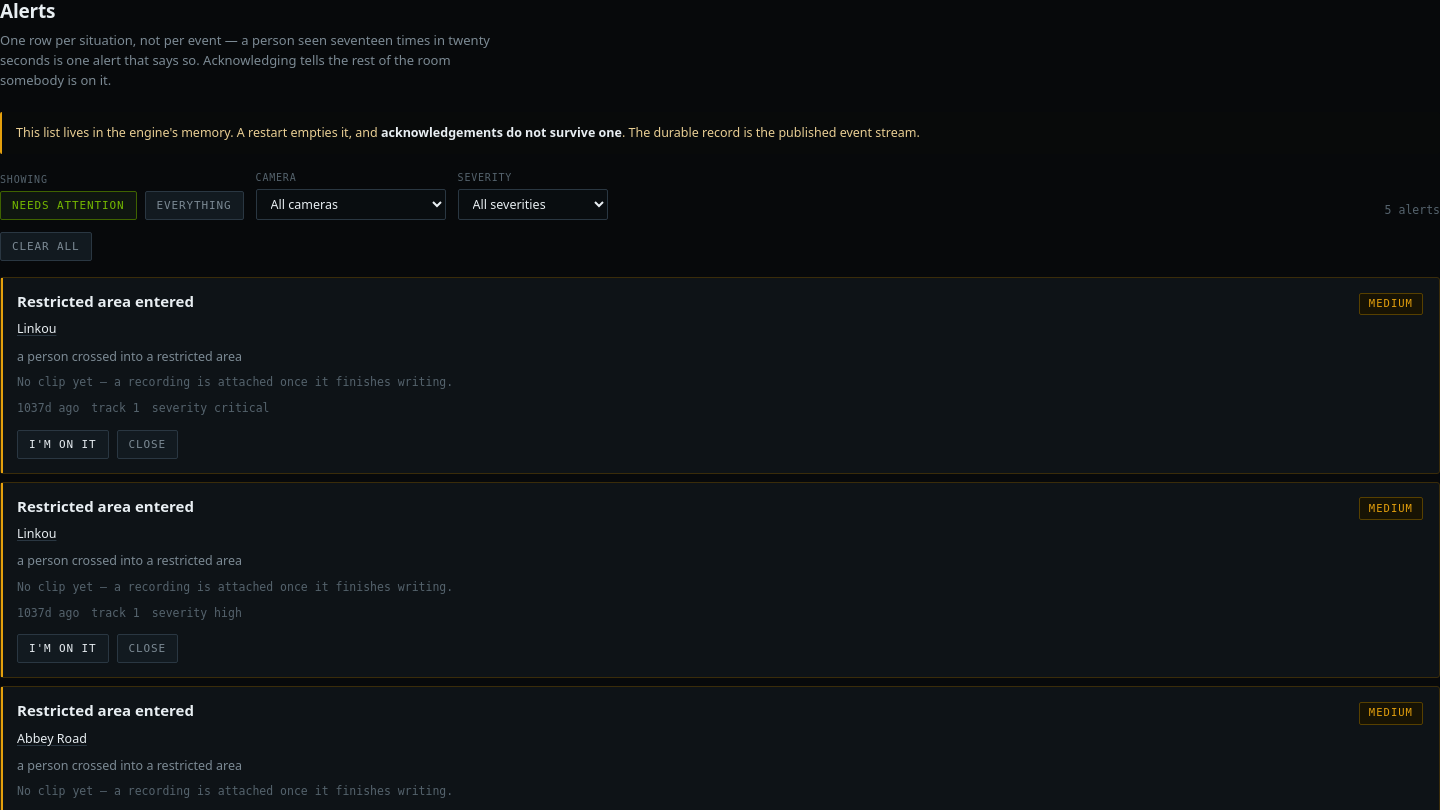
Scenario: AlertsPage filters, what an empty list is allowed to claim › does not say nothing is waiting when the filters are what emptied it
Select "Bourbon Street — 1" in the dropdown labelled "Camera" at (351, 204), box left=256, top=189, right=446, bottom=220
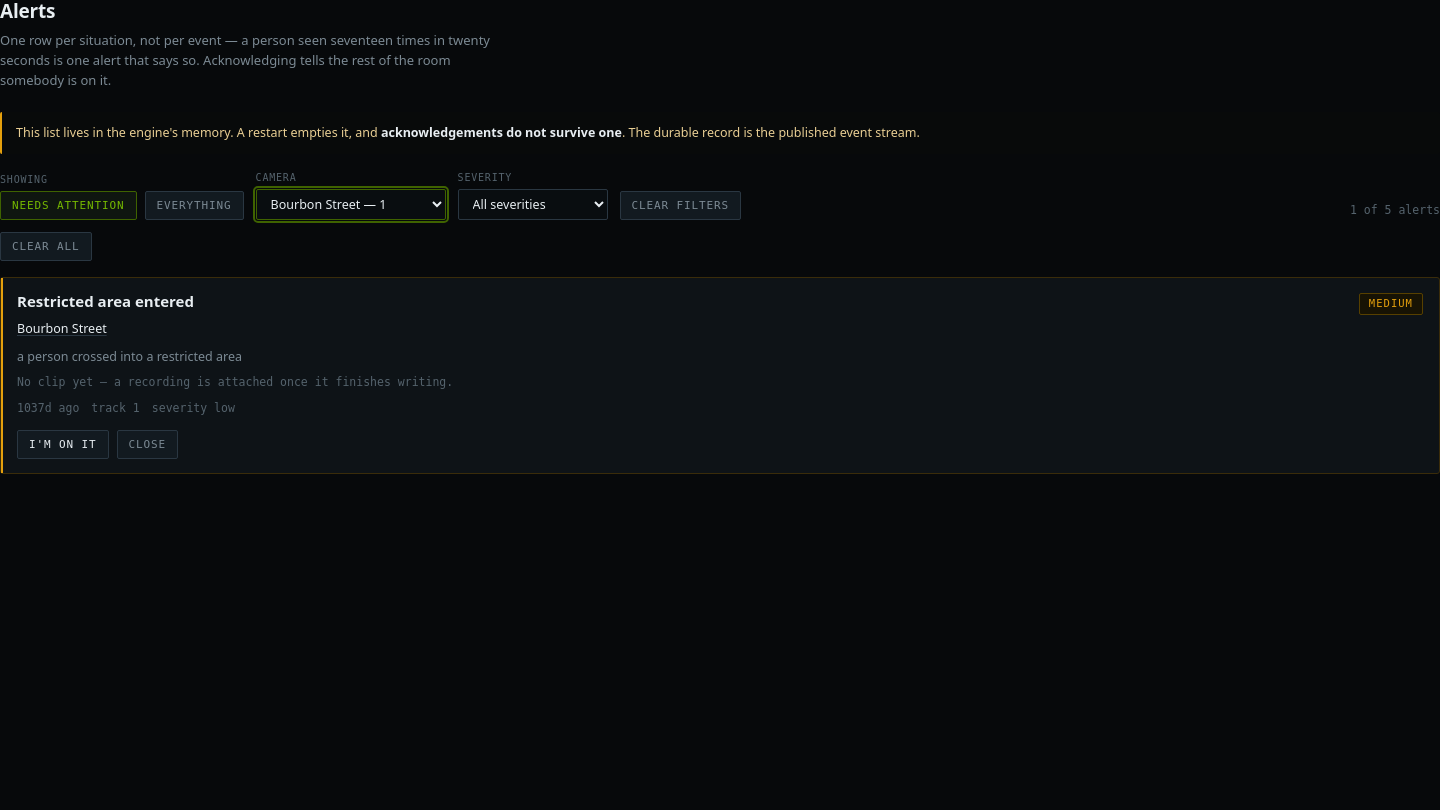
Select "Critical — 0" in the dropdown labelled "Severity" at (533, 204), box left=458, top=189, right=608, bottom=220
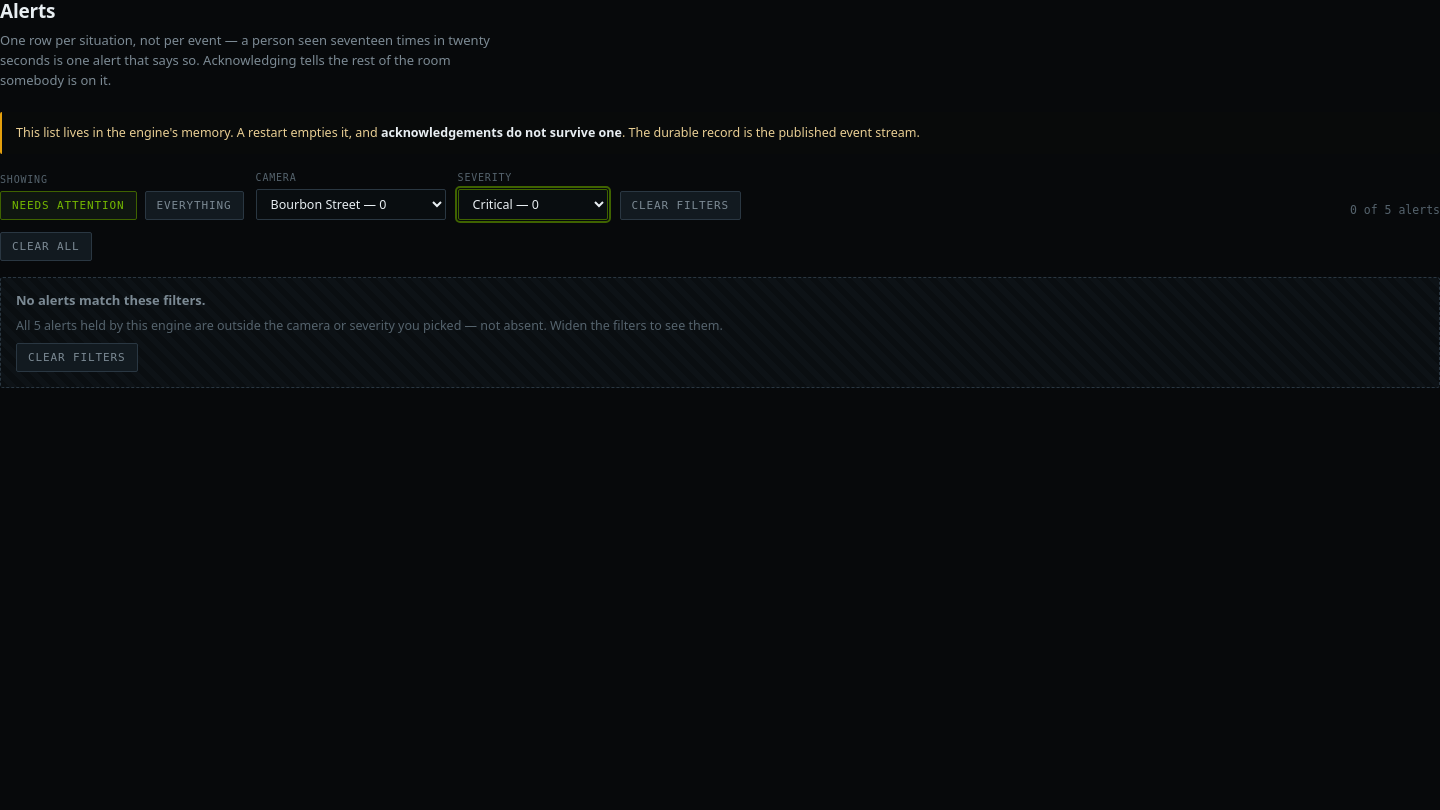
Now the heading "No alerts match these filters." is shown, box left=16, top=291, right=206, bottom=309
Now the text "outside the camera or severity you picked" is shown, box left=214, top=317, right=688, bottom=334
